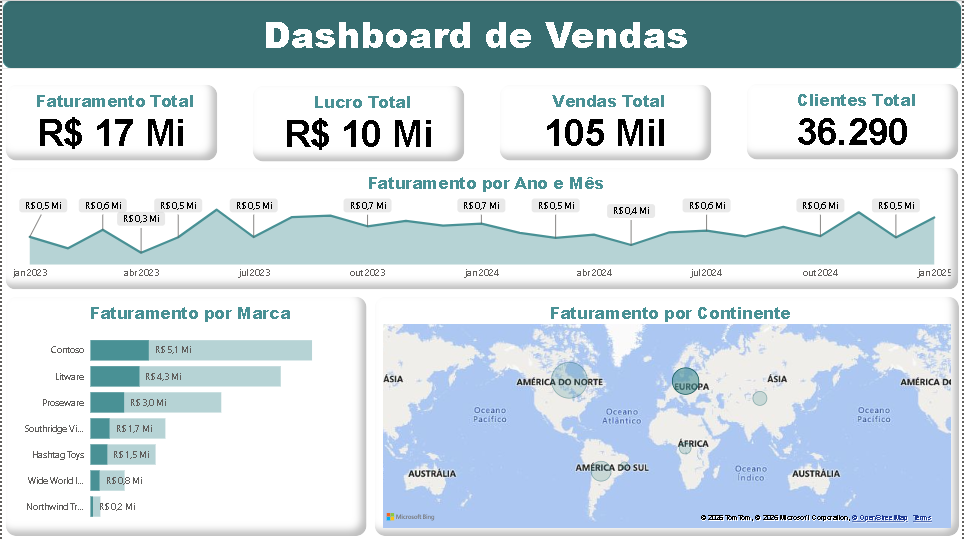

The dashboard page shown, as its layout file describes it:
{"tool":"powerbi","page":{"name":"Página 1","canvas":[1280,720],"ordinal":0},"visuals":[{"type":"textbox","box":[0,0,1280,92.4],"z":0},{"type":"cardVisual","title":"Faturamento Total","fields":{"Data":["Sum(Vendas.Faturamento)"]},"box":[0,107.4,291.8,111.5],"z":1000},{"type":"cardVisual","title":"Vendas Total","fields":{"Data":["Sum(Vendas.Qtd. Vendida)"]},"box":[658.7,107.4,291.8,111.5],"z":2000},{"type":"cardVisual","title":"Lucro Total","fields":{"Data":["Sum(Vendas.Lucro Venda)"]},"box":[329.3,109.3,292,110.7],"z":3000},{"type":"cardVisual","title":"Clientes Total","fields":{"Data":["Count(Vendas.Codigo Cliente)"]},"box":[988,106.7,292,110.7],"z":4000},{"type":"barChart","fields":{"Category":["Vendas.Marca"],"Y":["Sum(Vendas.Faturamento)"]},"box":[0,390.9,491.4,328.9],"z":5000},{"type":"areaChart","fields":{"Y":["Sum(Vendas.Faturamento)"],"Category":["Vendas.Data da Venda.Variation.Hierarquia de datas.Ano","Vendas.Data da Venda.Variation.Hierarquia de datas.Mês"]},"box":[0,218.8,1280,172],"z":6000},{"type":"map","fields":{"Category":["Vendas.Continente"],"Size":["Sum(Vendas.Faturamento)"]},"box":[491.4,390.9,788.6,328.9],"z":7000}]}

Visuals, with their boxes in screenshot pixels (x1, y1, x2, y2), scaled from the page's 1280x720 canvas onto the 964x540 screenshot:
textbox: x1=0 y1=0 x2=963 y2=69
"Faturamento Total" cardVisual: x1=0 y1=81 x2=220 y2=164
"Vendas Total" cardVisual: x1=496 y1=81 x2=716 y2=164
"Lucro Total" cardVisual: x1=248 y1=82 x2=468 y2=165
"Clientes Total" cardVisual: x1=744 y1=80 x2=963 y2=163
barChart - Vendas.Marca x Sum(Vendas.Faturamento): x1=0 y1=293 x2=370 y2=539
areaChart - Sum(Vendas.Faturamento) x Vendas.Data da Venda.Variation.Hierarquia de datas.Ano: x1=0 y1=164 x2=963 y2=293
map - Vendas.Continente x Sum(Vendas.Faturamento): x1=370 y1=293 x2=963 y2=539
